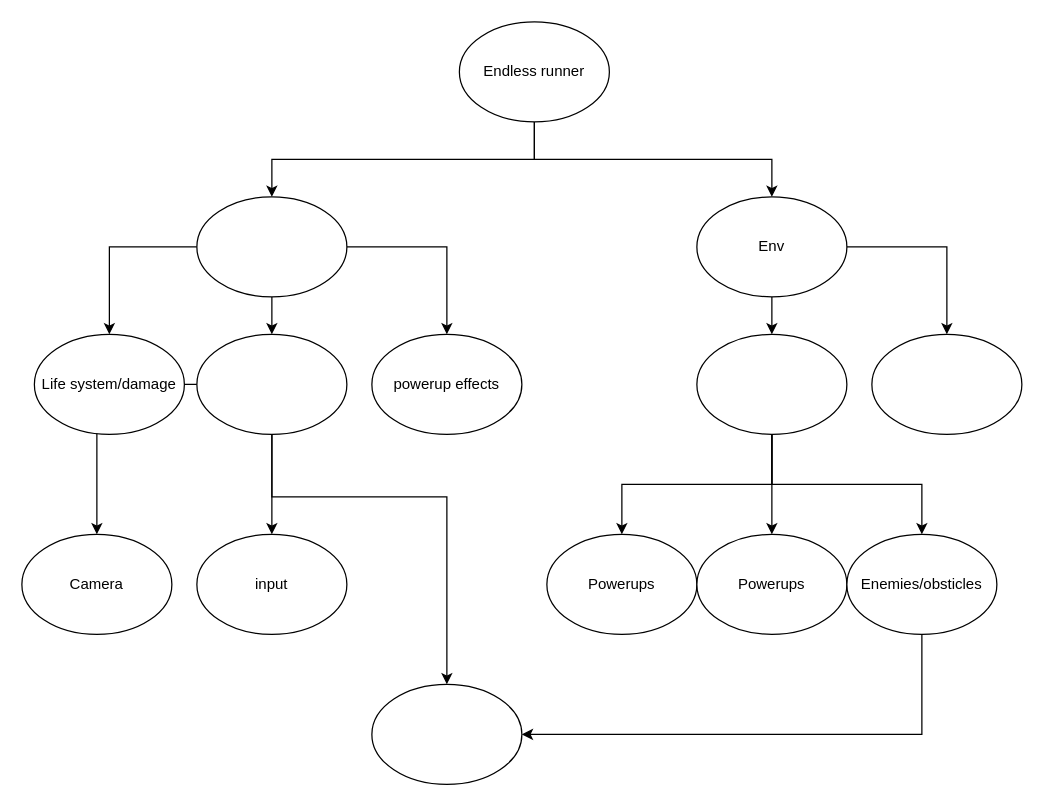
This 1044x806 diagram has some shape labels left out. Each missing label, with the centre of its shape:
Controller: point 271,383
design of scrollable zones: point 771,383
Movement: point 446,733
Player: point 271,246
Spawning of zones: point 946,383
